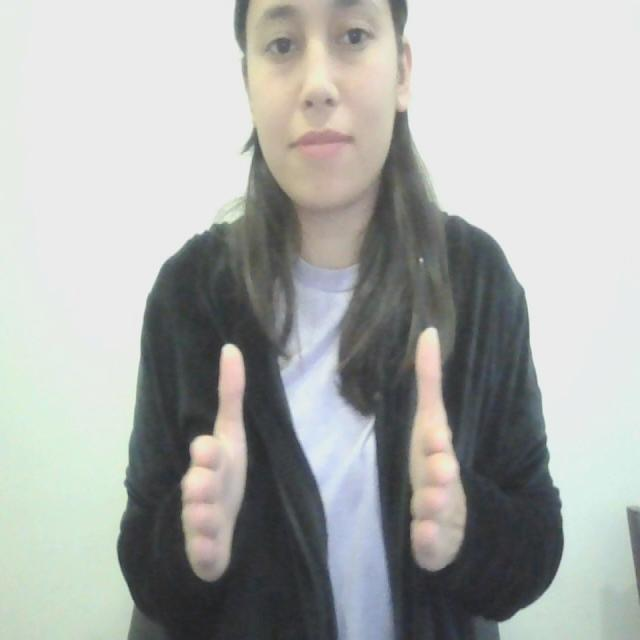Nasil: (169, 324, 487, 594)
